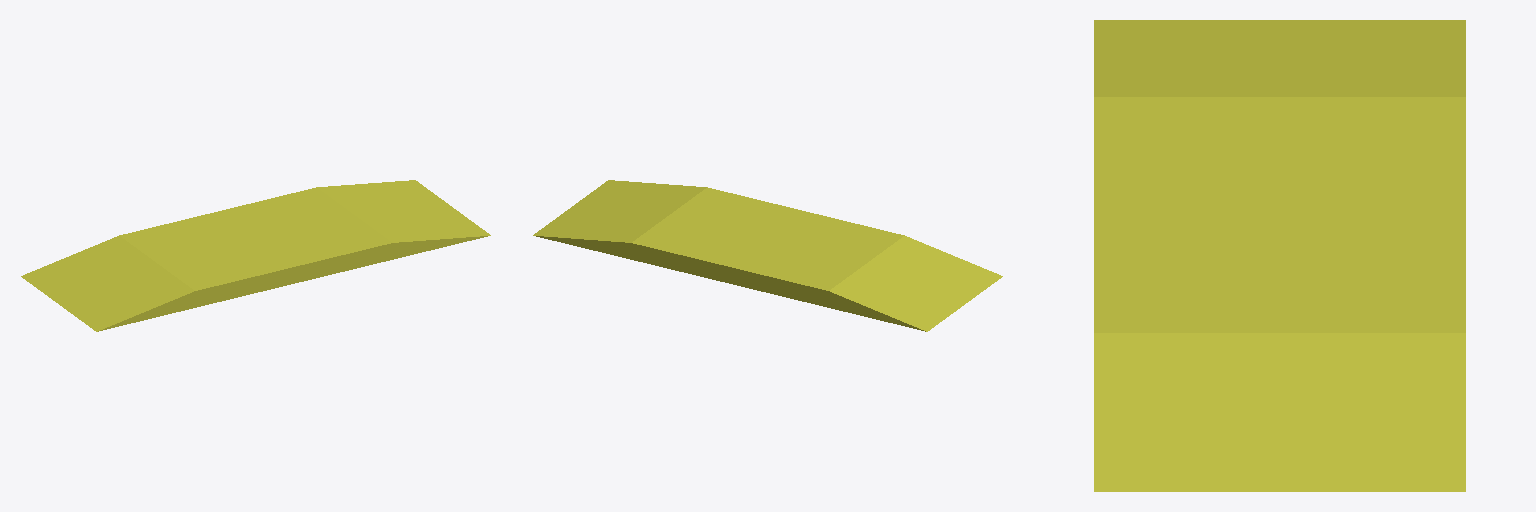
robot.urdf — Part1:
<?xml version="1.0" encoding="utf-8"?>
<!-- This URDF was automatically created by SolidWorks to URDF Exporter! Originally created by [author] ([email redacted]) 
     Commit Version: 1.5.1-0-g916b5db  Build Version: 1.5.7152.31018
     For more information, please see http://wiki.ros.org/sw_urdf_exporter -->
<robot
  name="Part1">
  <link
    name="ramp_5">
    <inertial>
      <origin
        xyz="7.5814E-16 7.67928484115444E-17 -0.005"
        rpy="0 0 0" />
      <mass
        value="500" />
      <inertia
        ixx="180.35"
        ixy="-6.0423E-14"
        ixz="4.7564E-15"
        iyy="450.35"
        iyz="1.08287265732095E-14"
        izz="630" />
    </inertial>
    <visual>
      <origin
        xyz="-1.2 -0.5 0"
        rpy="1.5707963267949 0 0" />
      <geometry>
        <mesh
          filename="package://ramp_5/meshes/ramp_5.STL" scale="1.5 2.7 1" />
      </geometry>
      <material
        name="">
        <color
           rgba="0.8 0.8 0.3 1" />
        <texture
          filename="package://ramp_5/textures/" />
      </material>
    </visual>
    <collision>
      <origin
        xyz="-1.2 -0.5 0"
        rpy="1.5707963267949 0 0" />
      <geometry>
        <mesh
          filename="package://ramp_5/meshes/ramp_5.STL"  scale="1.5 2.7 1"/>
      </geometry>
    </collision>
  </link>
</robot>

--- What the picture shows (computed from the rendered views, not written in the file) ---
Views: 3 orthographic renders of the robot side by side, from view 1: azimuth 30°, elevation 25°; view 2: azimuth 150°, elevation 25°; view 3: azimuth 270°, elevation 25°.
Robot: Part1 — 1 links, 0 joints (none); root link ramp_5; default pose: every joint at zero.
Links seen in each view (by area): view 1: ramp_5; view 2: ramp_5; view 3: ramp_5.
Link boxes in pixels (<box>): ramp_5: <box>21,180,490,331</box>; ramp_5: <box>533,180,1002,331</box>; ramp_5: <box>1094,20,1465,491</box>.
Bounding box of the posed robot: 6 × 2 × 0.243 m (x, y, z).
Meshes: 1 distinct files referenced, 1 mesh visuals loaded (1 binary STL).